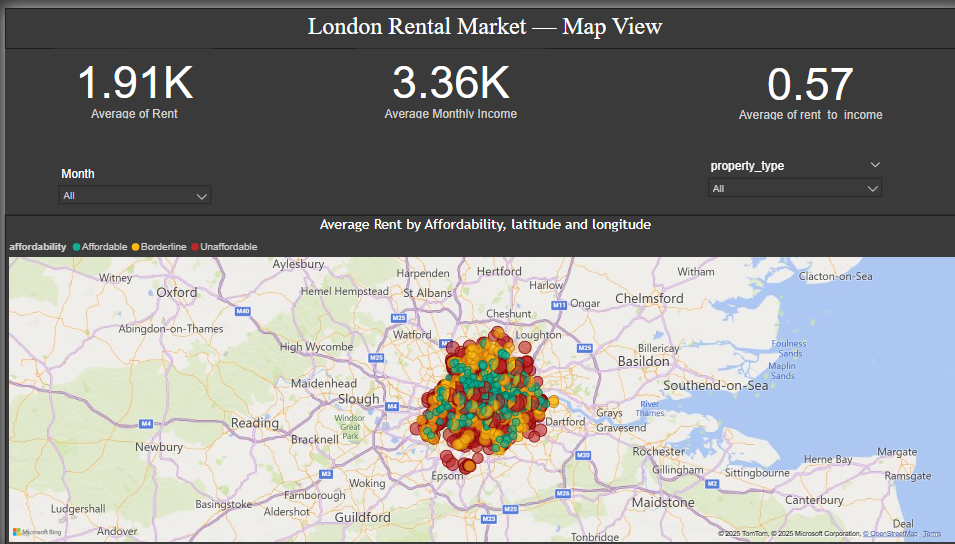

The dashboard page shown, as its layout file describes it:
{"tool":"powerbi","page":{"name":"Map View","canvas":[1280,720],"ordinal":1},"visuals":[{"type":"map","title":"Average Rent by Affordability, latitude and longitude","fields":{"Size":["Avg(fact_listings.price_amount)"],"Series":["fact_listings.affordability"],"Y":["fact_listings.latitude"],"X":["fact_listings.longitude"]},"box":[0,276.7,1280,443.3],"z":0},{"type":"textbox","box":[0,0,1280,54.3],"z":1000},{"type":"slicer","fields":{"Values":["fact_listings.year_month"]},"box":[61.2,206.2,222.5,62.5],"z":2000},{"type":"slicer","fields":{"Values":["fact_listings.property_type"]},"box":[927.1,195.7,251.4,72.9],"z":3000},{"type":"card","fields":{"Values":["Avg(fact_listings.price_amount)"]},"box":[66.7,53.3,211.7,98.3],"z":8000},{"type":"card","fields":{"Values":["Avg(fact_listings.monthly_income)"]},"box":[468.3,53.3,251.7,98.3],"z":9000},{"type":"card","fields":{"Values":["Avg(fact_listings.rent_to_income)"]},"box":[943.3,55,260,98.3],"z":10000}]}

Visuals, with their boxes in screenshot pixels (x1, y1, x2, y2), scaled from the page's 1280x720 canvas onto the 955x544 screenshot:
"Average Rent by Affordability, latitude and longitude" map: region(0, 209, 954, 543)
textbox: region(0, 0, 954, 41)
slicer - fact_listings.year_month: region(46, 156, 212, 203)
slicer - fact_listings.property_type: region(692, 148, 879, 203)
card - Avg(fact_listings.price_amount): region(50, 40, 208, 115)
card - Avg(fact_listings.monthly_income): region(349, 40, 537, 115)
card - Avg(fact_listings.rent_to_income): region(704, 42, 898, 116)
